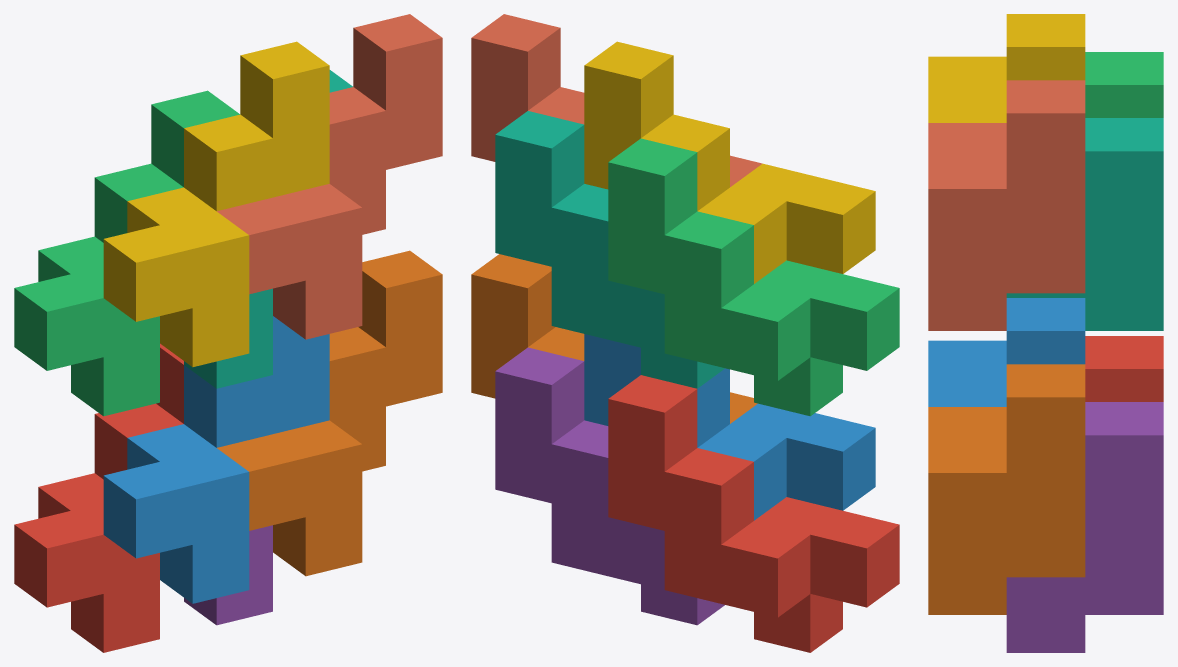
Rendered from tiling.obj.
The picture shows the model from 3 angles, left to right: view 1: azimuth 30°, elevation 25°; view 2: azimuth 150°, elevation 25°; view 3: azimuth 270°, elevation 25°; orthographic projection. The views are drawn at different scales.
Parts seen in each view (by area): view 1: copy_1_domain_4, copy_1_domain_8, copy_1_domain_6, copy_1_domain_2, copy_1_domain_3, copy_1_domain_1, copy_1_domain_7, copy_1_domain_5; view 2: copy_1_domain_3, copy_1_domain_1, copy_1_domain_4, copy_1_domain_5, copy_1_domain_7, copy_1_domain_2, copy_1_domain_8, copy_1_domain_6; view 3: copy_1_domain_6, copy_1_domain_8, copy_1_domain_5, copy_1_domain_7, copy_1_domain_2, copy_1_domain_4, copy_1_domain_1, copy_1_domain_3.
Part boxes in pixels (x1,y1,x2,y2): copy_1_domain_4: (103, 41, 329, 367); copy_1_domain_8: (217, 14, 442, 339); copy_1_domain_6: (217, 250, 442, 576); copy_1_domain_2: (103, 316, 329, 603); copy_1_domain_3: (14, 90, 239, 416); copy_1_domain_1: (14, 343, 183, 652); copy_1_domain_7: (184, 70, 352, 388); copy_1_domain_5: (184, 525, 272, 625); copy_1_domain_3: (608, 138, 899, 416); copy_1_domain_1: (608, 375, 899, 652); copy_1_domain_4: (584, 41, 875, 283); copy_1_domain_5: (495, 347, 724, 625); copy_1_domain_7: (495, 111, 724, 388); copy_1_domain_2: (584, 334, 875, 520); copy_1_domain_8: (471, 14, 762, 186); copy_1_domain_6: (471, 254, 757, 423); copy_1_domain_6: (928, 364, 1085, 614); copy_1_domain_8: (928, 80, 1085, 330); copy_1_domain_5: (1006, 402, 1163, 652); copy_1_domain_7: (1006, 118, 1163, 330); copy_1_domain_2: (928, 298, 1085, 406); copy_1_domain_4: (928, 14, 1085, 122); copy_1_domain_1: (1085, 336, 1163, 401); copy_1_domain_3: (1085, 52, 1163, 117).
Bounding box in the file's own units: 7 × 9 × 3.
